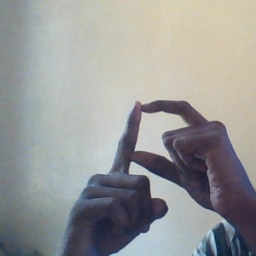D: (94, 94, 230, 218)
